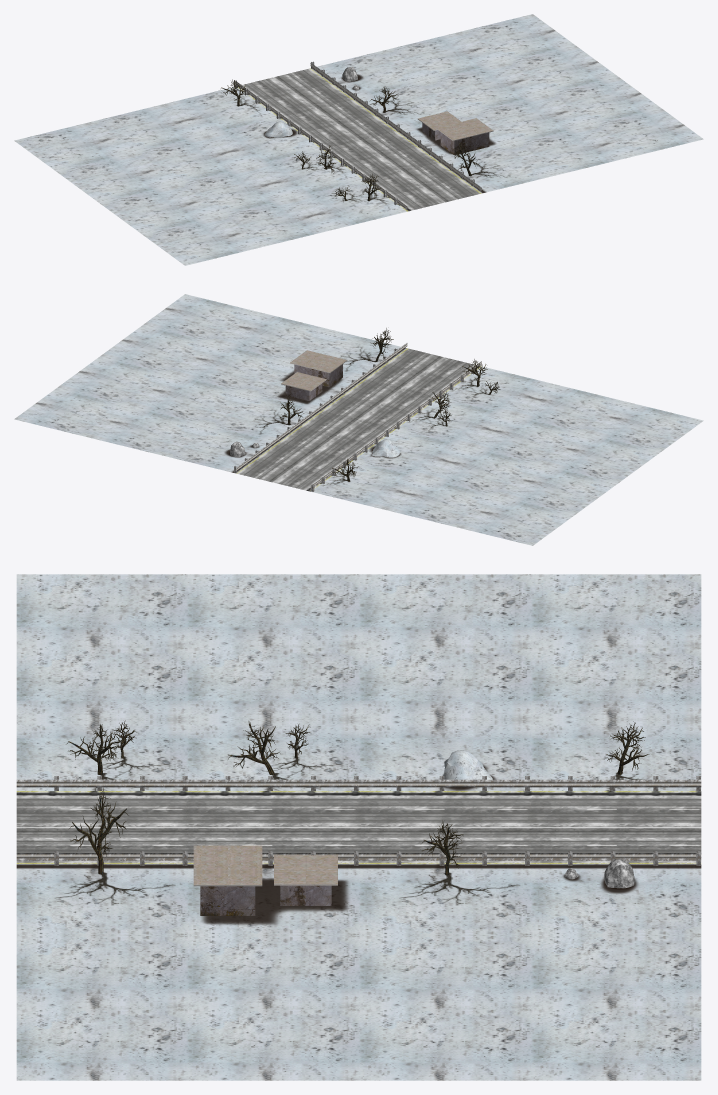
3 views of the same model, one above another, from view 1: azimuth 30°, elevation 25°; view 2: azimuth 150°, elevation 25°; view 3: azimuth 270°, elevation 25° (orthographic). The views are drawn at different scales.
Visible parts, largest first — view 1: scene4, road011, Box044, Box043; view 2: scene4, road011, Box044, Box043; view 3: scene4, road011, Box044, Box043, Box009, rock007.
Part boxes in pixels (x1=…): scene4: x1=14, y1=14, x2=703, y2=265; road011: x1=234, y1=61, x2=481, y2=211; Box044: x1=418, y1=111, x2=493, y2=155; Box043: x1=221, y1=79, x2=478, y2=201; scene4: x1=14, y1=294, x2=703, y2=545; road011: x1=234, y1=343, x2=481, y2=491; Box044: x1=281, y1=350, x2=347, y2=400; Box043: x1=280, y1=328, x2=500, y2=481; scene4: x1=16, y1=574, x2=701, y2=1080; road011: x1=16, y1=776, x2=701, y2=865; Box044: x1=193, y1=845, x2=337, y2=915; Box043: x1=66, y1=720, x2=649, y2=875; Box009: x1=443, y1=750, x2=492, y2=779; rock007: x1=564, y1=859, x2=635, y2=888.
Size of the model in its own units: 140 by 10.87 by 80.
